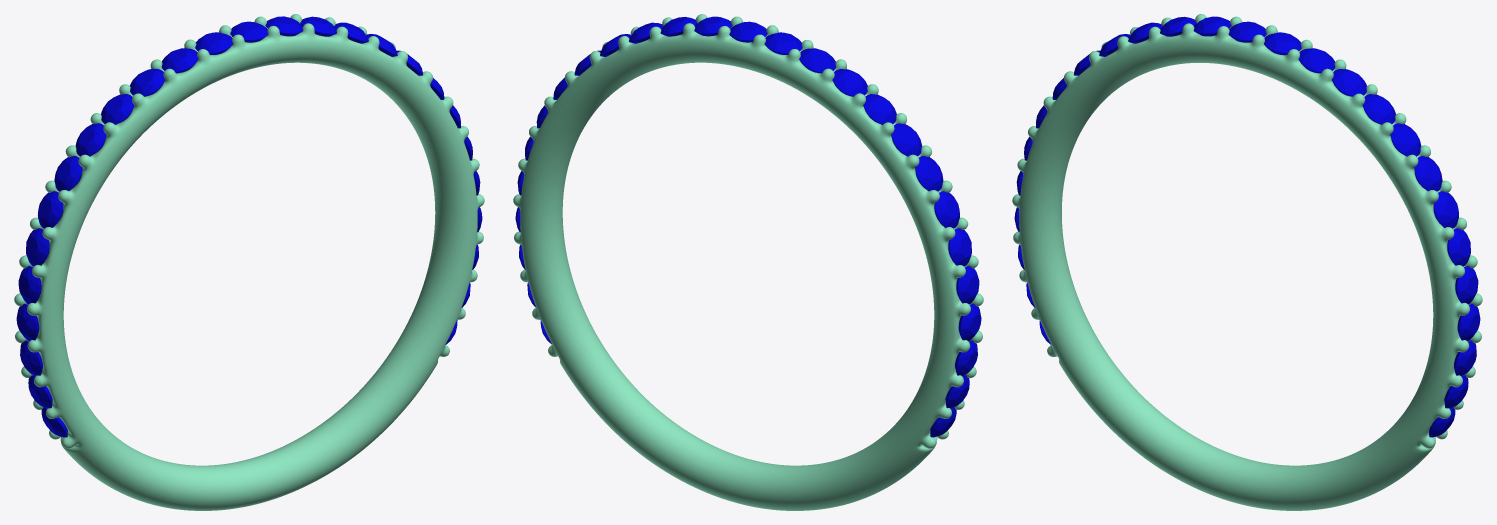
3 renders of one model, left to right at view 1: azimuth 30°, elevation 25°; view 2: azimuth 150°, elevation 25°; view 3: azimuth 330°, elevation 25°, orthographic.
Visible parts, largest first — view 1: Metal03, Diamond_Band.018, Diamond_Band.017, Diamond_Band.019, Diamond_Band.020, Diamond_Band.016, Diamond_Band.021, Diamond_Band.015, Diamond_Band.022, Diamond_Band.014, Diamond_Band.023, Diamond_Band.013 (+1 smaller); view 2: Metal03, Diamond_Band.018, Diamond_Band.017, Diamond_Band.019, Diamond_Band.020, Diamond_Band.016, Diamond_Band.021, Diamond_Band.015, Diamond_Band.022, Diamond_Band.014, Diamond_Band.023, Diamond_Band.013 (+1 smaller); view 3: Metal03, Diamond_Band.008, Diamond_Band.007, Diamond_Band.009, Diamond_Band.006, Diamond_Band.010, Diamond_Band.005, Diamond_Band.011, Diamond_Band.004, Diamond_Band.012, Diamond_Band.003, Diamond_Band.013 (+1 smaller).
Boxes of the visible parts, x1,y1,x2,y2 form: Metal03: [14, 14, 484, 510]; Diamond_Band.018: [75, 123, 106, 156]; Diamond_Band.017: [101, 94, 134, 124]; Diamond_Band.019: [54, 156, 82, 191]; Diamond_Band.020: [38, 191, 63, 228]; Diamond_Band.016: [130, 69, 165, 96]; Diamond_Band.021: [26, 228, 49, 266]; Diamond_Band.015: [161, 48, 198, 73]; Diamond_Band.022: [18, 266, 41, 304]; Diamond_Band.014: [195, 32, 232, 54]; Diamond_Band.023: [16, 304, 39, 341]; Diamond_Band.013: [230, 21, 268, 42]; Metal03: [513, 14, 983, 510]; Diamond_Band.018: [891, 123, 921, 156]; Diamond_Band.017: [863, 94, 896, 124]; Diamond_Band.019: [915, 156, 943, 191]; Diamond_Band.020: [934, 191, 959, 228]; Diamond_Band.016: [832, 69, 867, 96]; Diamond_Band.021: [948, 228, 971, 266]; Diamond_Band.015: [799, 48, 836, 73]; Diamond_Band.022: [956, 266, 979, 304]; Diamond_Band.014: [764, 32, 802, 54]; Diamond_Band.023: [958, 303, 981, 341]; Diamond_Band.013: [729, 21, 767, 42]; Metal03: [1012, 14, 1482, 510]; Diamond_Band.008: [1390, 123, 1421, 156]; Diamond_Band.007: [1414, 156, 1442, 191]; Diamond_Band.009: [1362, 94, 1395, 124]; Diamond_Band.006: [1433, 191, 1458, 228]; Diamond_Band.010: [1332, 69, 1366, 96]; Diamond_Band.005: [1447, 228, 1470, 266]; Diamond_Band.011: [1298, 48, 1335, 73]; Diamond_Band.004: [1455, 266, 1478, 304]; Diamond_Band.012: [1264, 32, 1301, 55]; Diamond_Band.003: [1457, 304, 1480, 341]; Diamond_Band.013: [1228, 21, 1266, 42].
Bounding box in the file's own units: 20.89 × 20.88 × 1.89.
